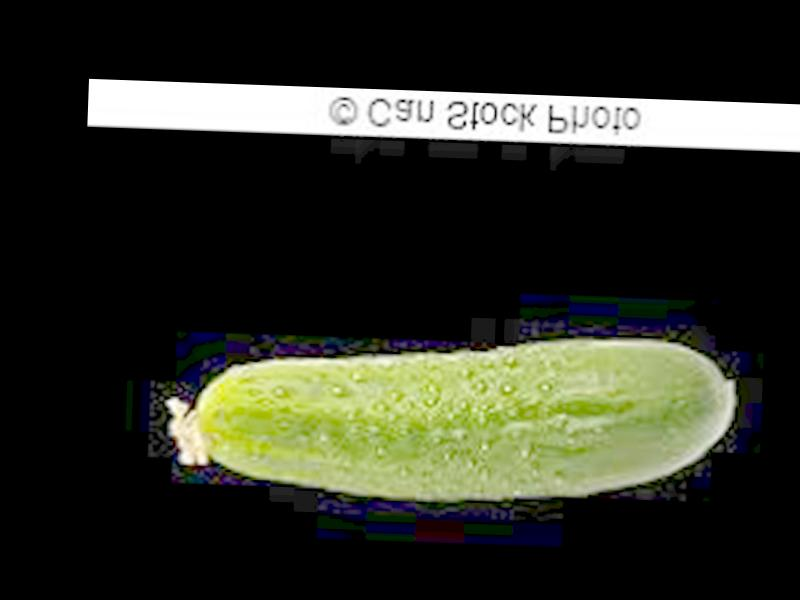Cucumber: (163, 325, 736, 511)
